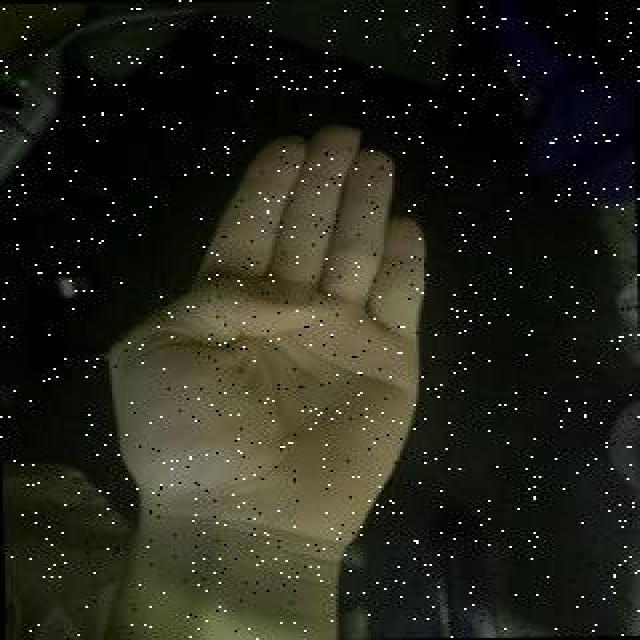B: (95, 121, 441, 559)
